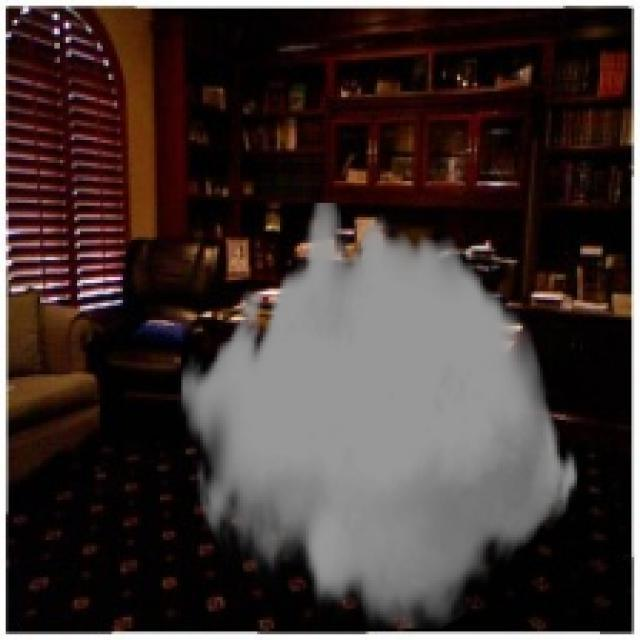Smoke: (177, 202, 580, 628)
